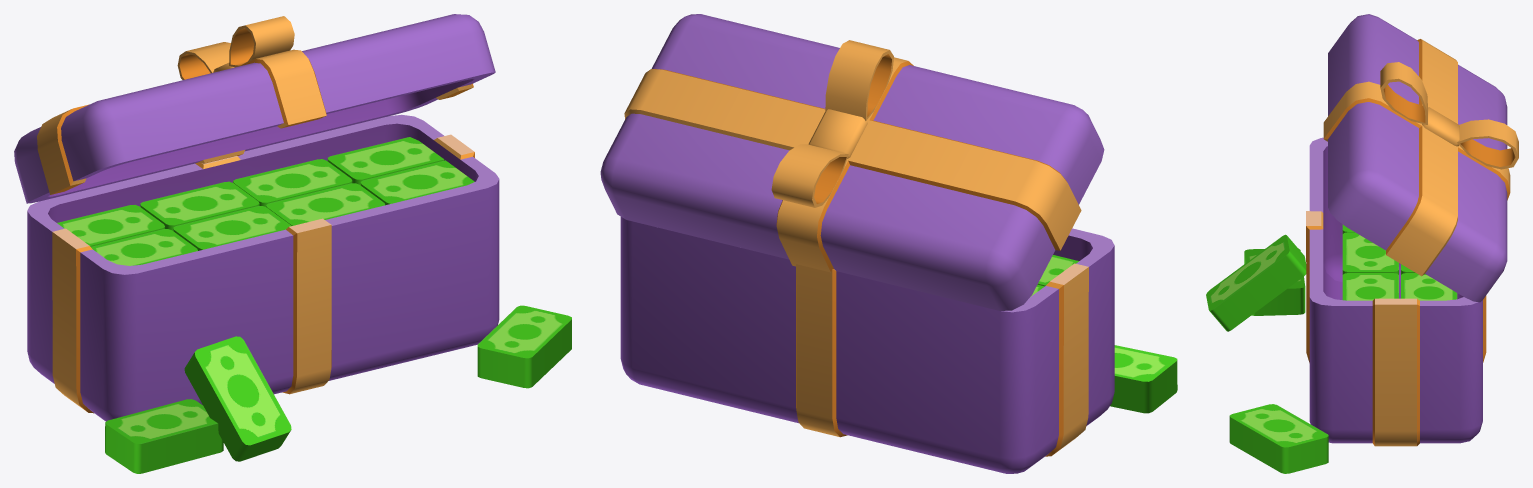
The model's file is Money_Safe_Noel.fbx.
The picture shows the model from 3 angles, left to right: view 1: azimuth 30°, elevation 25°; view 2: azimuth 150°, elevation 25°; view 3: azimuth 270°, elevation 25°; orthographic projection. The views are drawn at different scales.
Parts seen in each view (by area): view 1: Money_Safe_Noel, Moneysafenoel; view 2: Money_Safe_Noel, Moneysafenoel; view 3: Money_Safe_Noel, Moneysafenoel.
Boxes of the visible parts, <box> form: Money_Safe_Noel: <box>14,14,499,421</box>; Moneysafenoel: <box>57,137,571,473</box>; Money_Safe_Noel: <box>600,14,1114,473</box>; Moneysafenoel: <box>1030,255,1177,413</box>; Money_Safe_Noel: <box>1306,14,1518,446</box>; Moneysafenoel: <box>1206,224,1457,473</box>.
Bounding box in the file's own units: 106 × 74.72 × 70.67.
